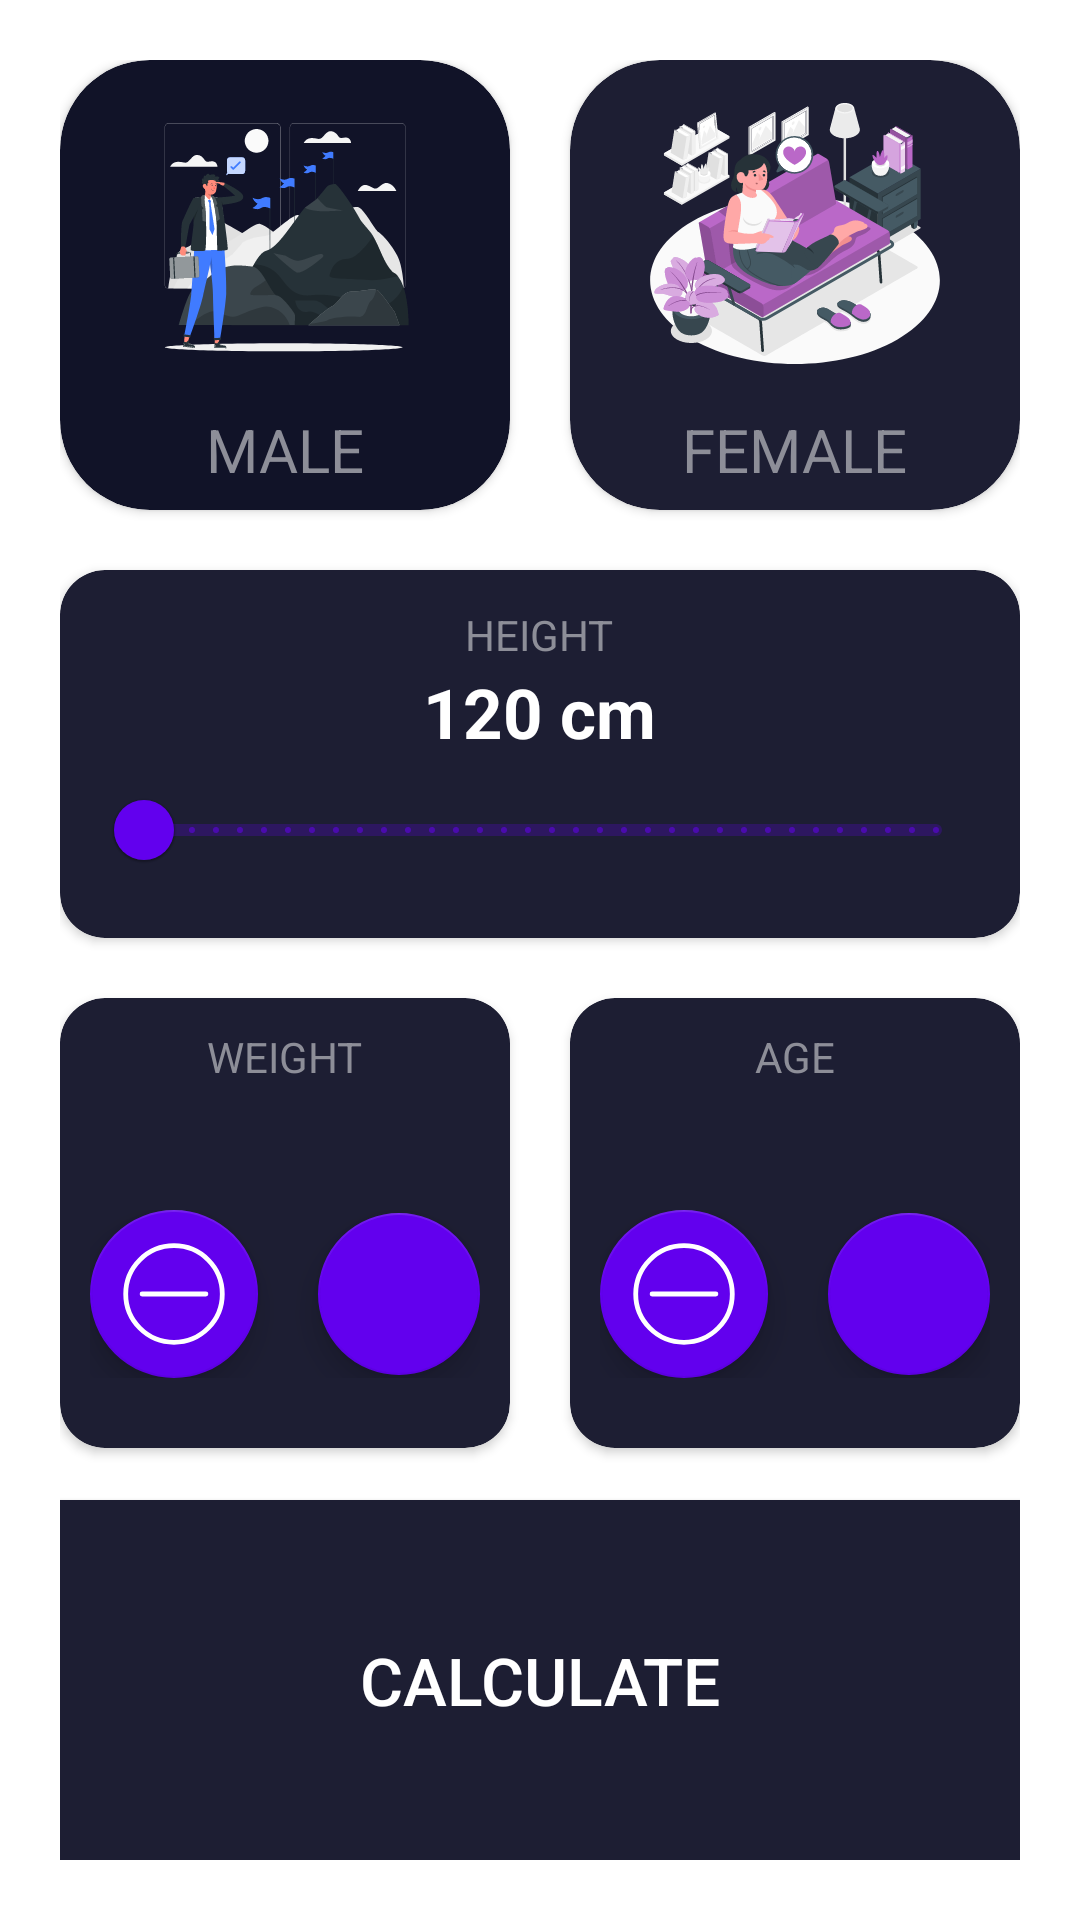

Named icons in this screenshot (1080 × 1920) and their centers, point (x, y):
substract: point (174, 1294), point (684, 1294)
